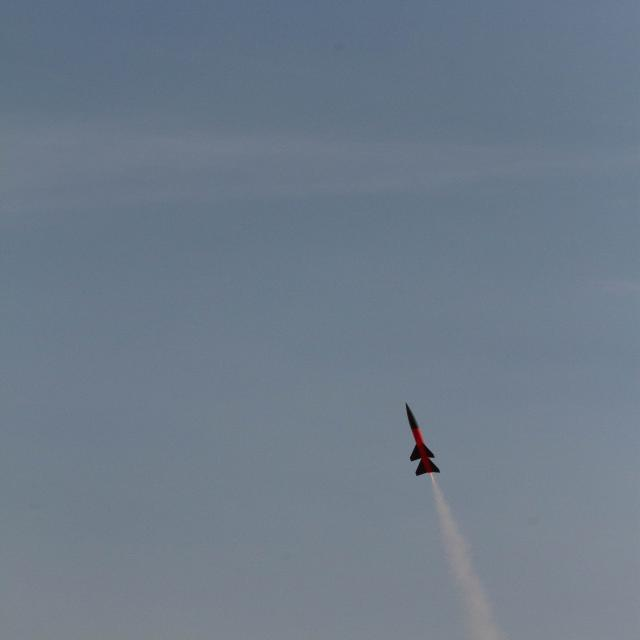Rocket: (405, 402, 441, 476)
